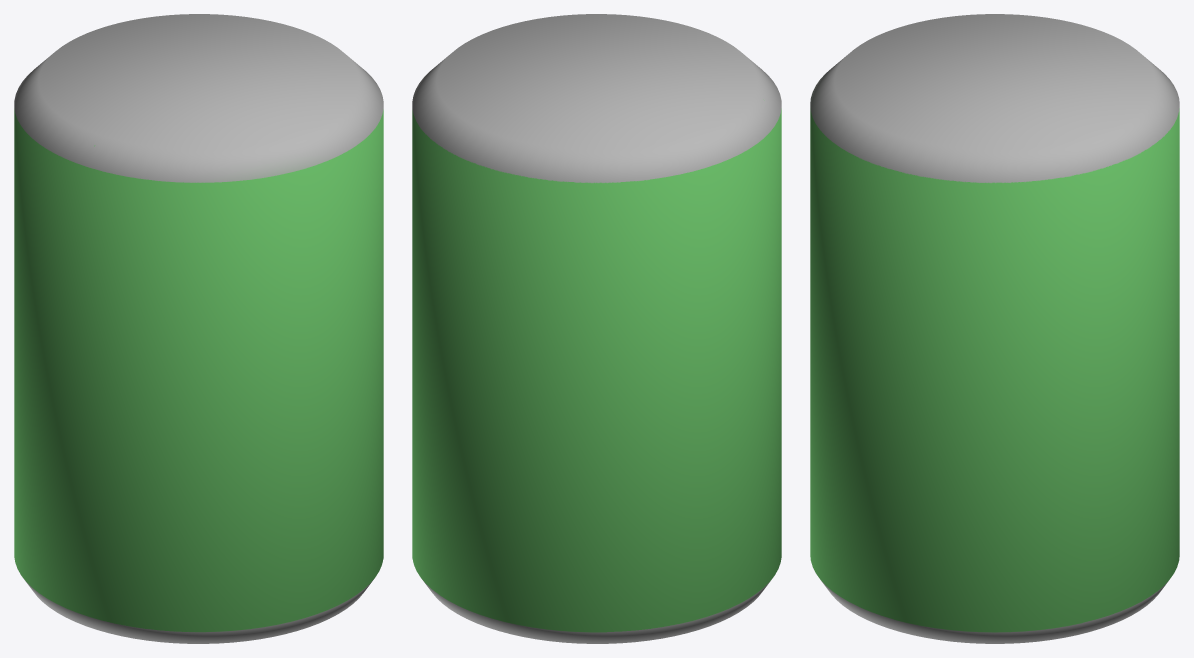
The model's file is GreenSoda.fbx.
3 renders of one model, left to right at view 1: azimuth 30°, elevation 25°; view 2: azimuth 150°, elevation 25°; view 3: azimuth 270°, elevation 25°, orthographic.
Visible parts, largest first — view 1: Cylinder; view 2: Cylinder; view 3: Cylinder.
Boxes of the visible parts, x1,y1,x2,y2 form: Cylinder: [14, 14, 383, 643]; Cylinder: [412, 14, 781, 643]; Cylinder: [810, 14, 1179, 643].
Bounding box in the file's own units: 200 × 295 × 200.
